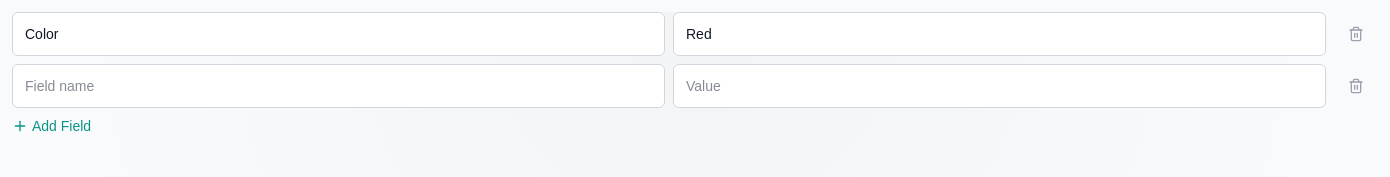
it: CustomFieldsEditor › should show duplicate error for duplicate field names
The width and height of the screenshot is (1390, 177).
Note: Type "Color" into the second field's name input (index 2)
Type "Color" into the field with placeholder "Field name" at {"x": 338, "y": 86}, box [12, 64, 665, 108]
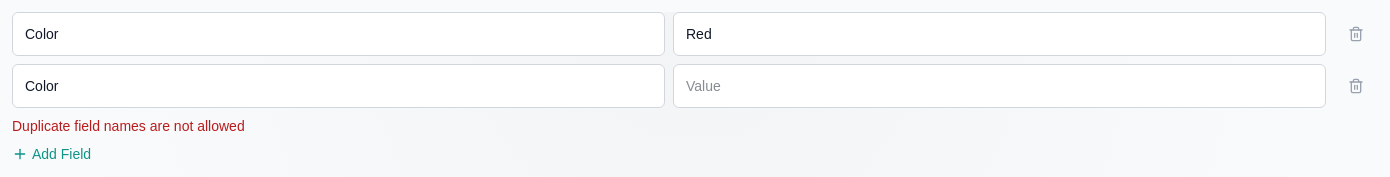
Expected: the message reads "Duplicate field names are not allowed", [12, 118, 245, 134]
